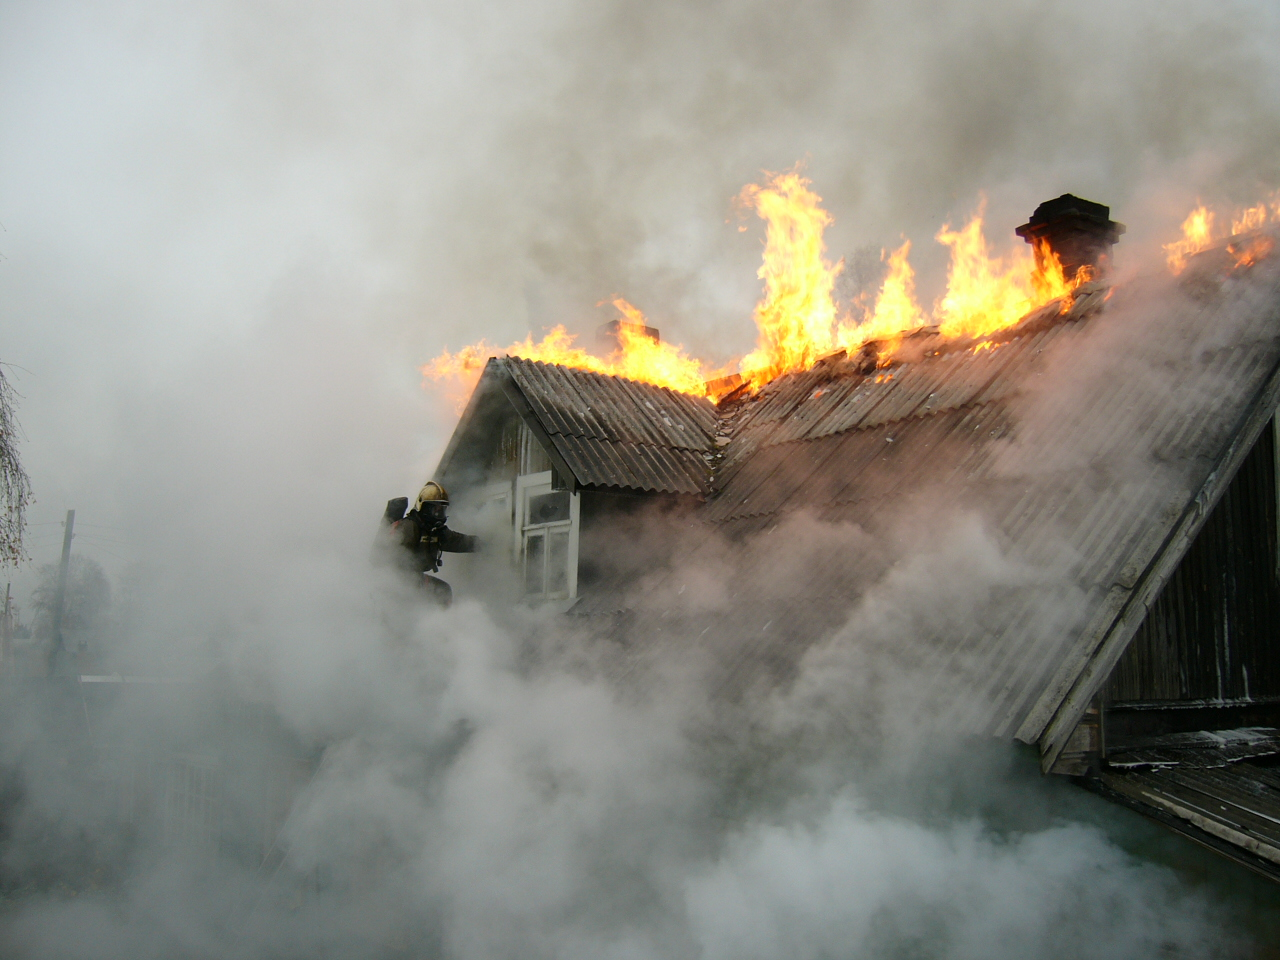fire: (4, 545, 997, 960), (19, 6, 449, 510), (475, 187, 1175, 400)
